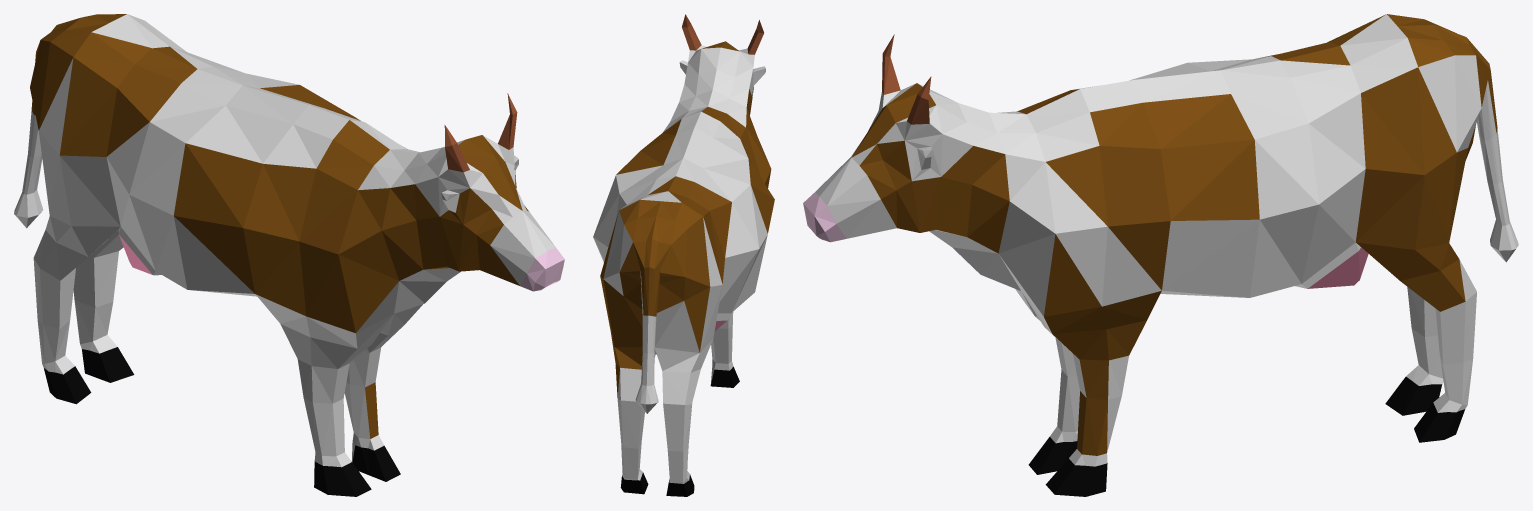
Rendered from cow.fbx.
3 renders of one model, left to right at view 1: azimuth 30°, elevation 25°; view 2: azimuth 150°, elevation 25°; view 3: azimuth 270°, elevation 25°, orthographic. The views are drawn at different scales.
Parts seen in each view (by area): view 1: Low poly COW; view 2: Low poly COW; view 3: Low poly COW.
Part boxes in pixels (box(x1,y1,x2,y2)): Low poly COW: box(14, 14, 564, 496); Low poly COW: box(593, 14, 774, 496); Low poly COW: box(803, 14, 1518, 496).
Bounding box in the file's own units: 155 × 234 × 342.
